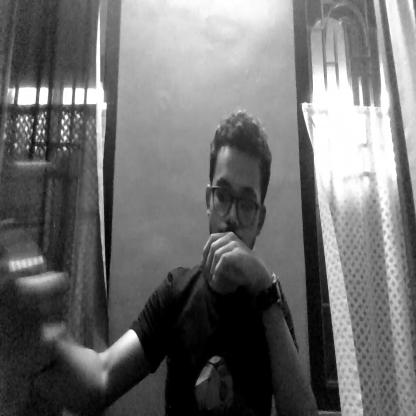Normal: (207, 112, 270, 244)
